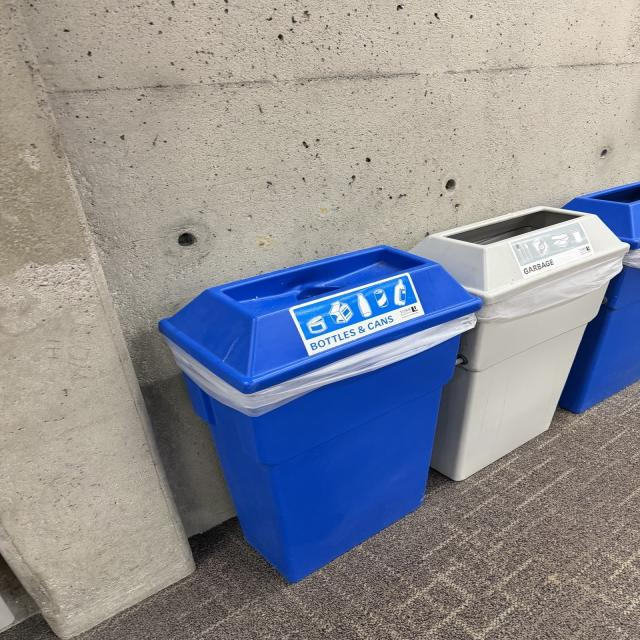Dustbin: (156, 183, 640, 586)
